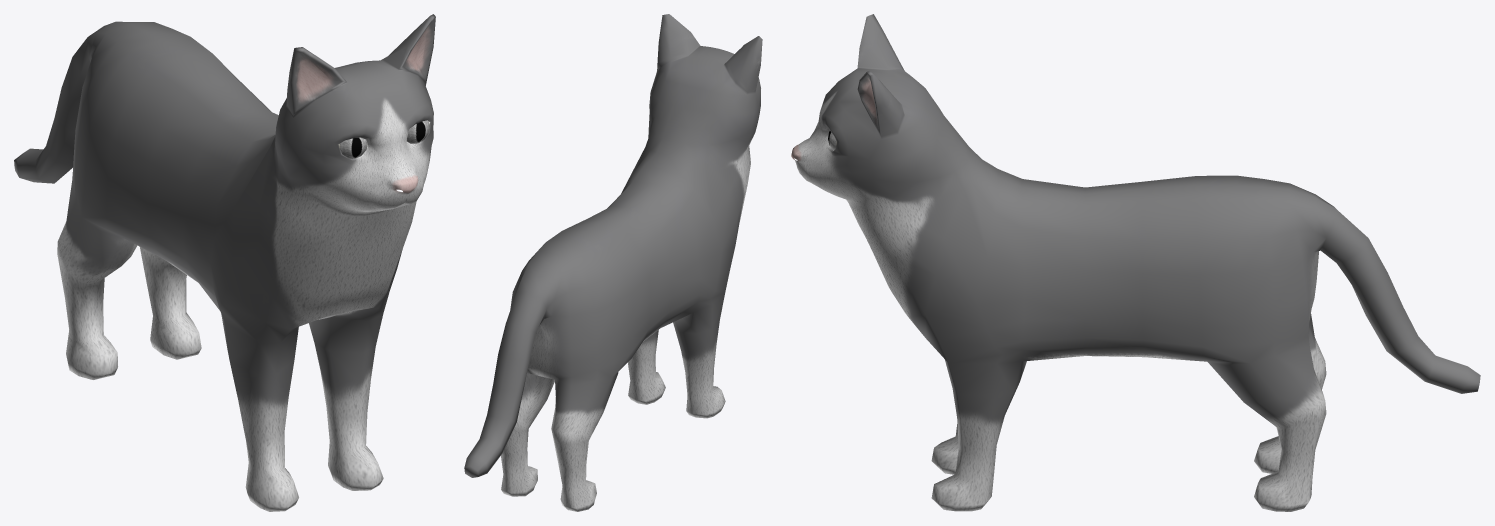
Rendered from cat_BWblue.glb.
The picture shows the model from 3 angles, left to right: view 1: azimuth 30°, elevation 25°; view 2: azimuth 150°, elevation 25°; view 3: azimuth 270°, elevation 25°; orthographic projection. The views are drawn at different scales.
Visible parts, largest first — view 1: body cat_geo.001, cat_geo eyes.001; view 2: body cat_geo.001; view 3: body cat_geo.001.
Boxes of the visible parts, box(x1,y1,x2,y2) form: body cat_geo.001: box(14, 14, 435, 511); cat_geo eyes.001: box(338, 120, 429, 158); body cat_geo.001: box(464, 14, 762, 511); body cat_geo.001: box(791, 14, 1480, 511).
Size of the model in its own units: 1572 by 5053 by 7130.
Materials: 2 (2 with a texture image).
